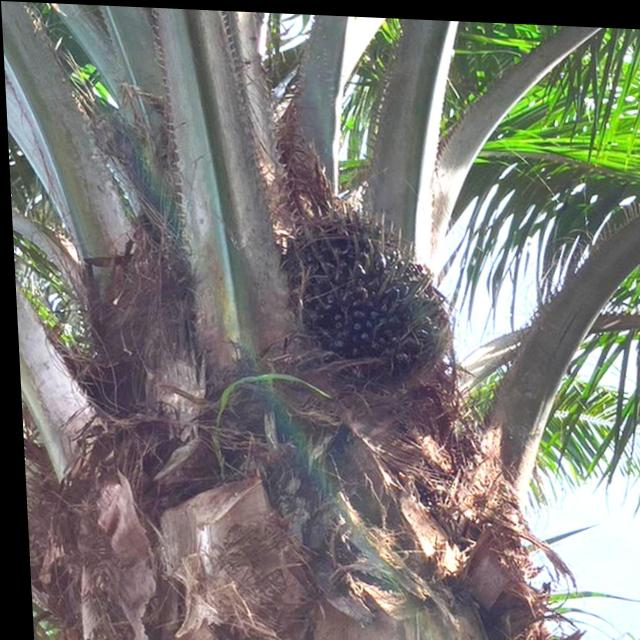unripe: (275, 204, 449, 385)
